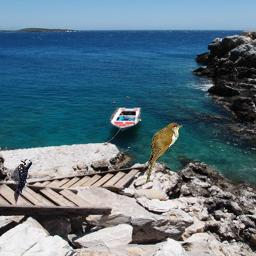Cuckoo: (146, 122, 183, 184)
Woodpecker: (10, 157, 32, 205)
